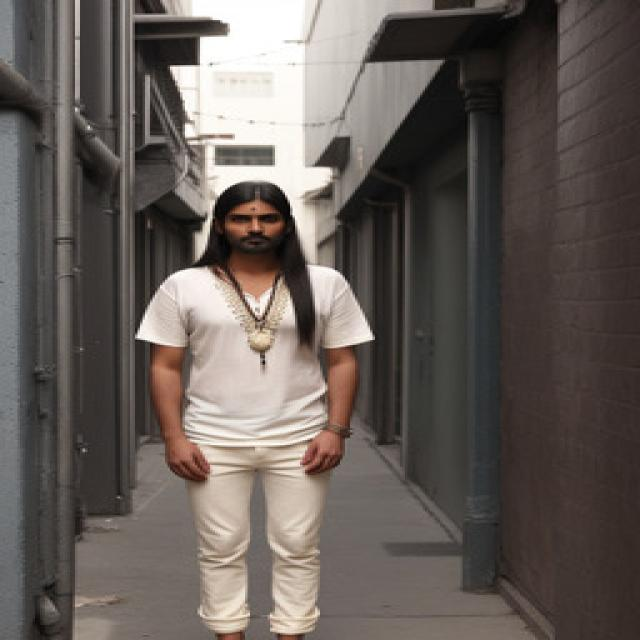Ai human 2: (128, 173, 376, 640)
